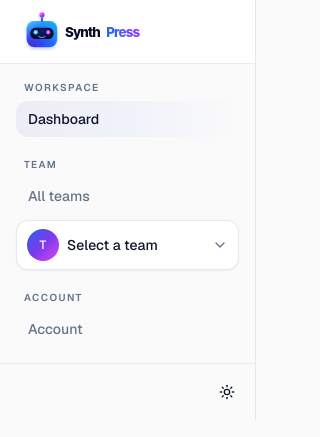
Test: WorkspaceSidebar › shows '?' initial for a team with empty name
This screenshot has width=320, height=437.
Click the button with aria-label "choose or switch team": (128, 245) x1=16 y1=220 x2=239 y2=270
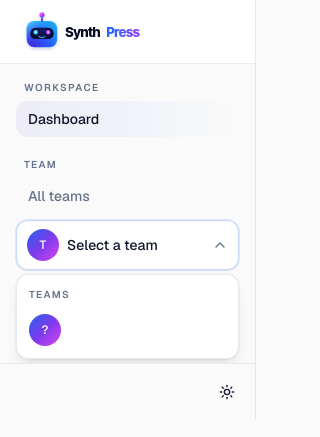
Result: the text "?" is shown at x1=42 y1=322 x2=48 y2=338
